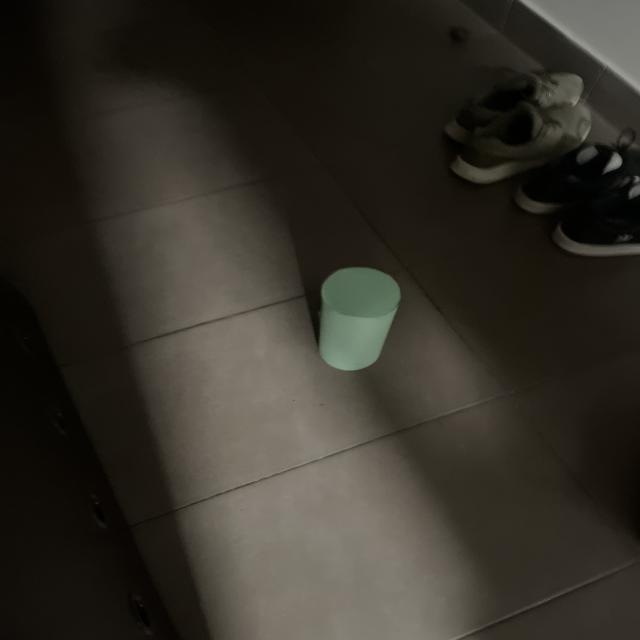meta: (319, 267, 401, 371)
